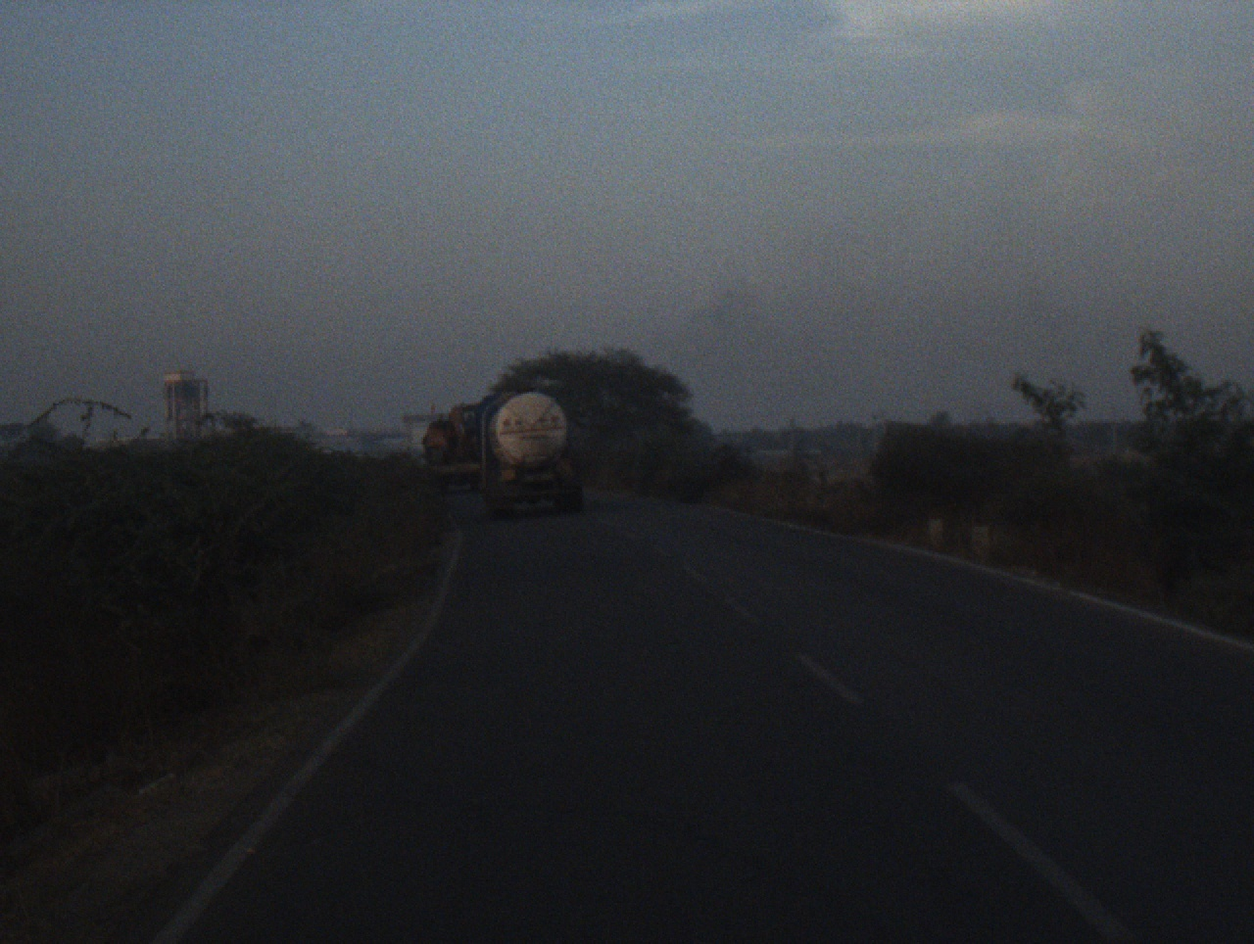truck: (472, 383, 589, 515)
vehicle fallback: (416, 400, 489, 500)
